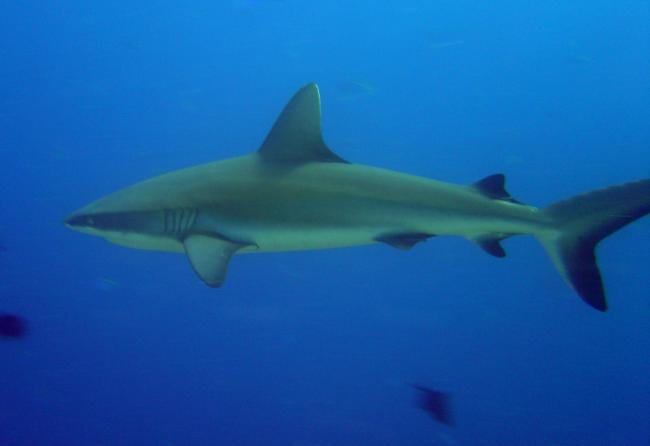fish: (63, 84, 649, 316)
